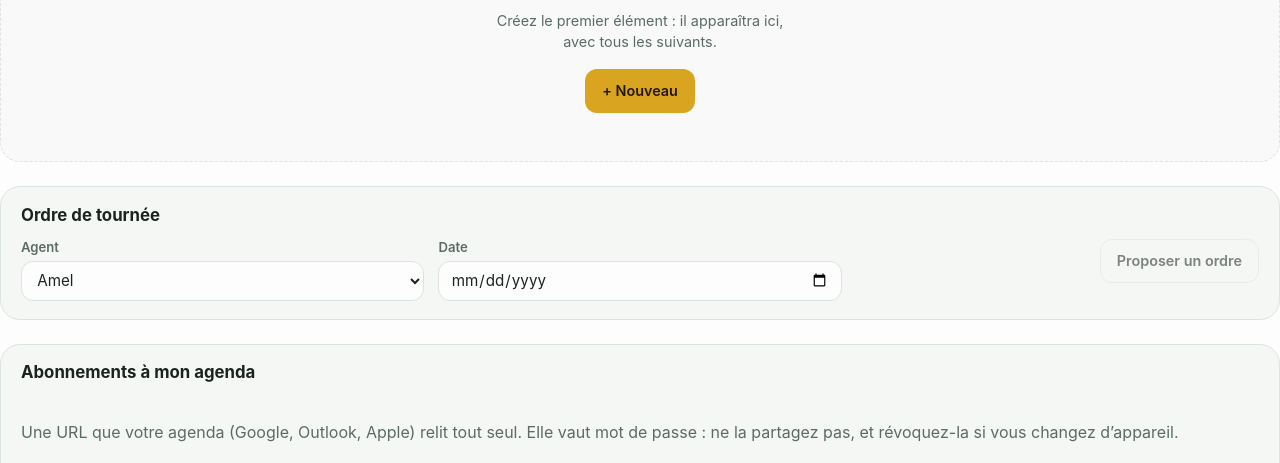
Test: tournée réordonnable › revient à la proposition
Select "Amel" in the dropdown labelled "Agent" at (223, 281), box [21,261,424,301]
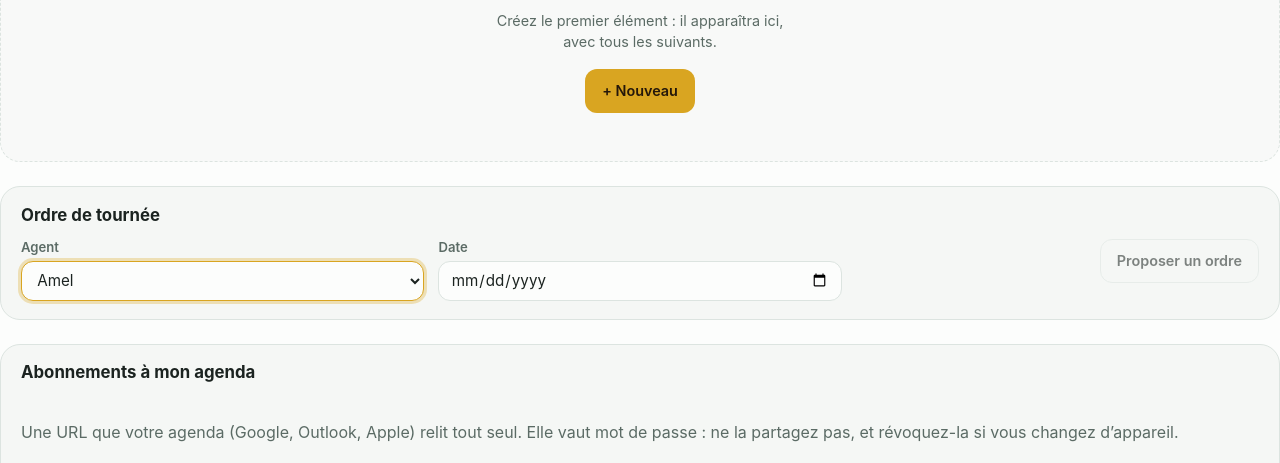
Type "2026-09-02" into the date field labelled "Date" at (640, 281), box [438,261,842,301]
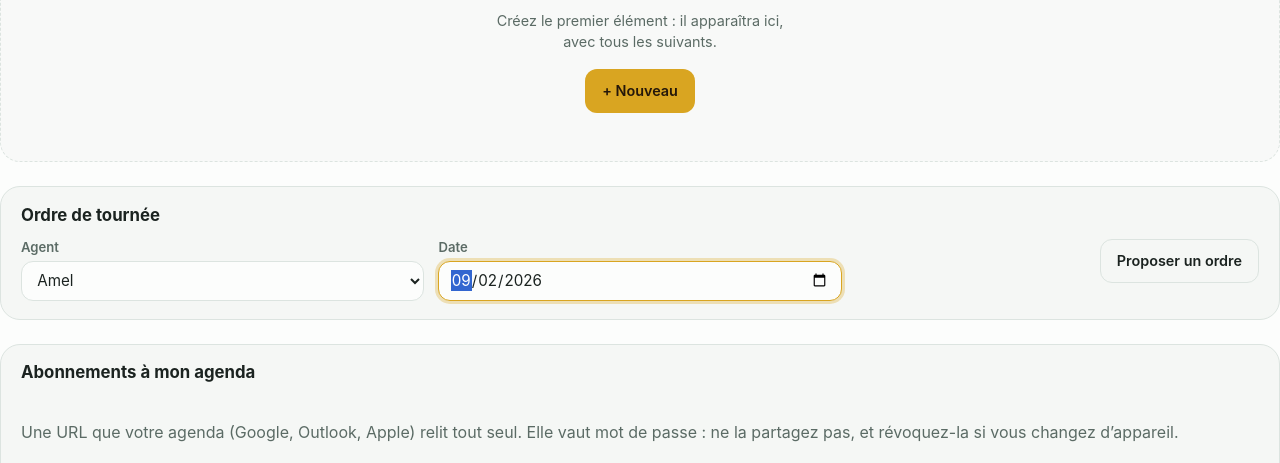
Click the button "Proposer un ordre" at (1179, 261), box [1100,239,1259,283]
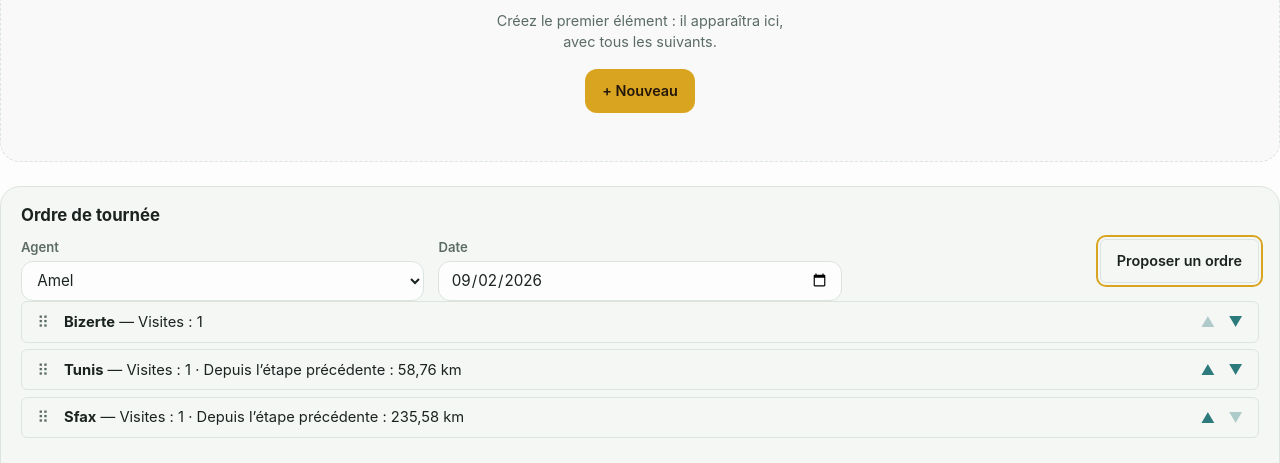
Now the list named "Ordre de tournée" is shown, box [21,301,1259,438]
Click the button named "Descendre d’un rang : Bizerte" at (1236, 322), box [1223,310,1248,334]
(page scrolled)
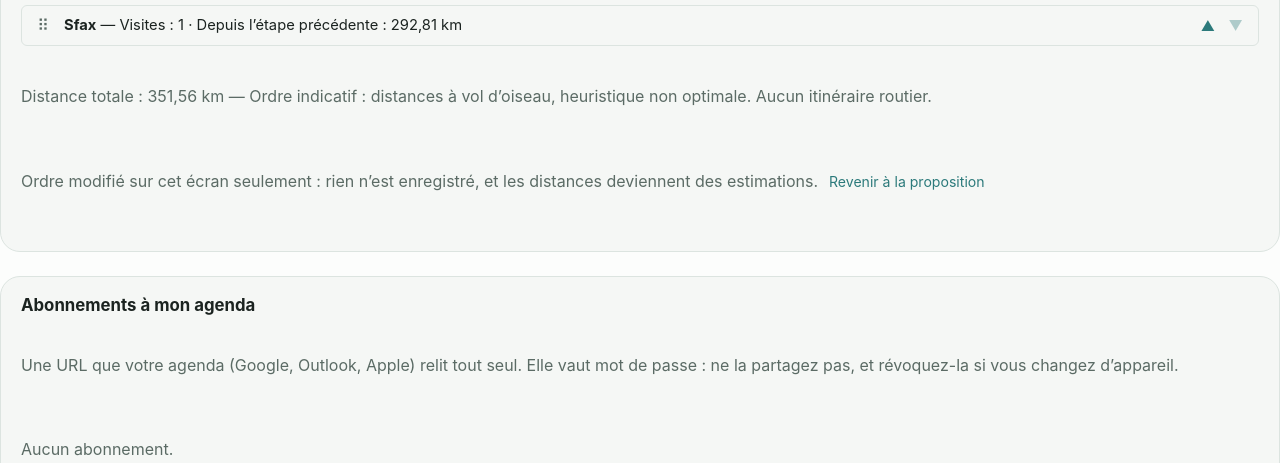
Click the button "Revenir à la proposition" at (907, 182), box [823,170,991,194]
(page scrolled)
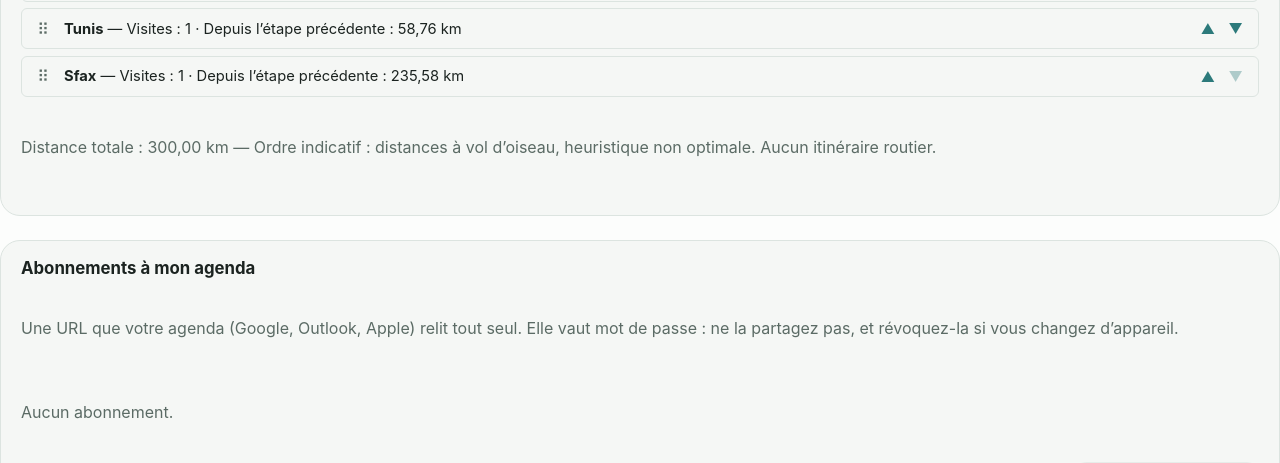
Now the text "Distance totale : 300,00 km" is shown, box [21,137,936,157]
